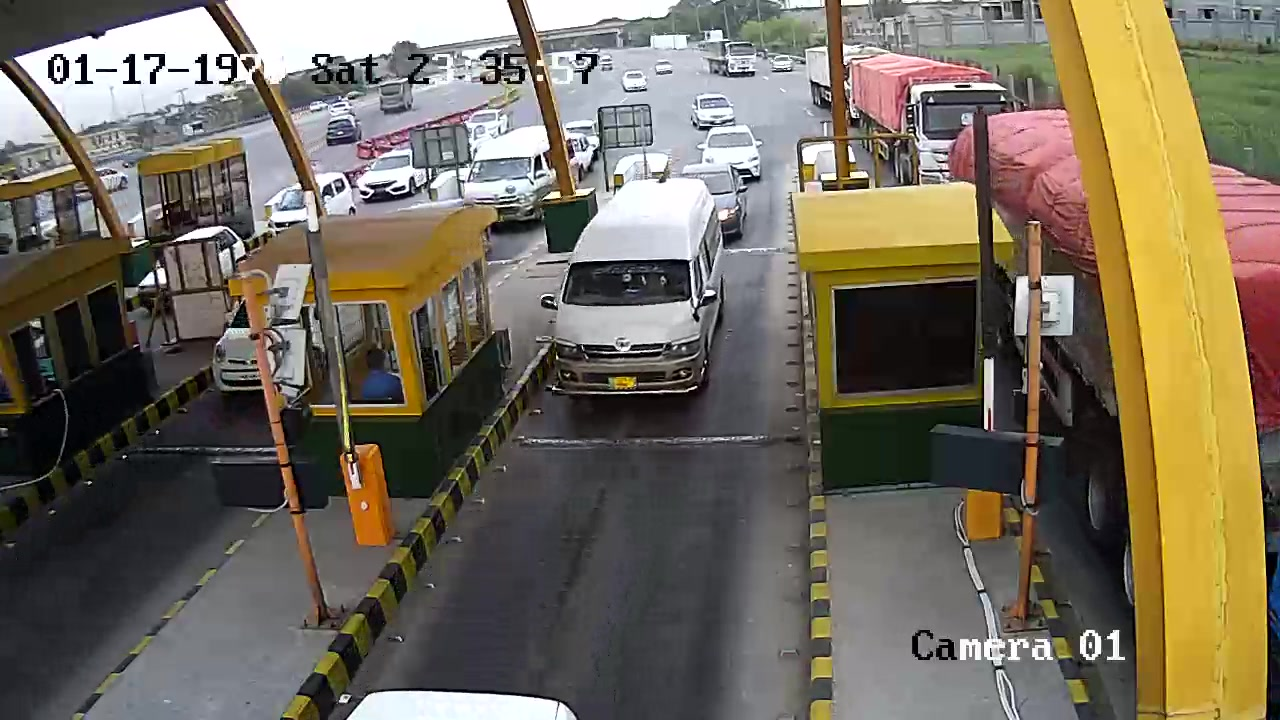F2: (554, 178, 720, 408)
